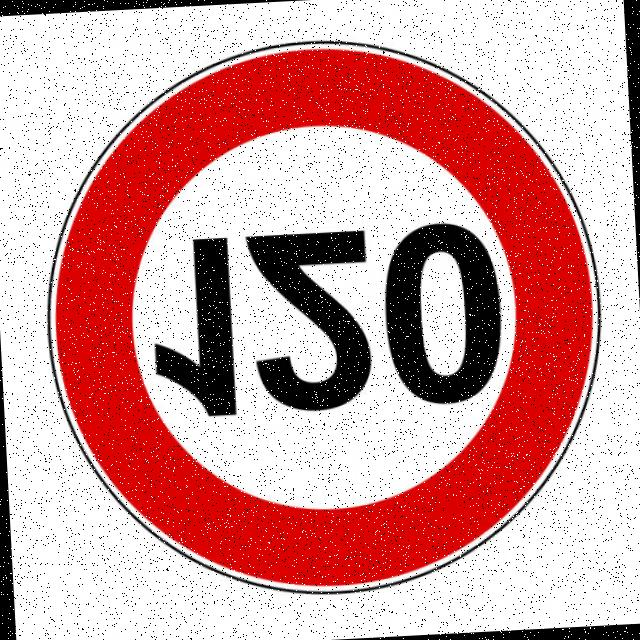speed_limit_120: (36, 31, 618, 612)
